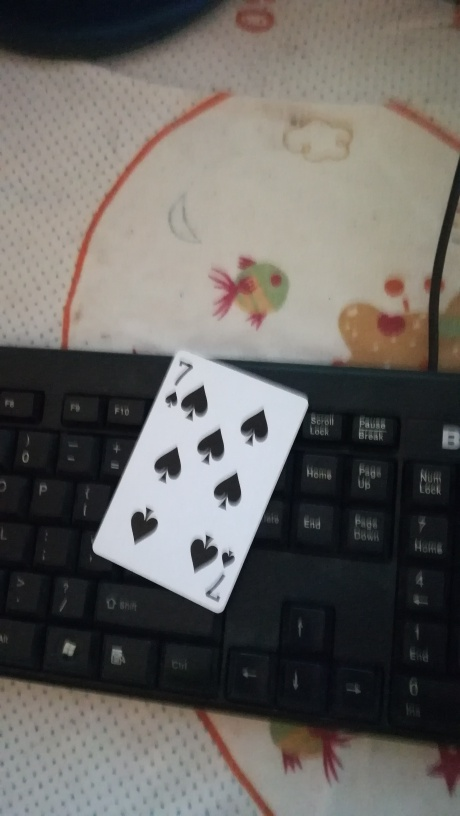ht 7: (89, 346, 310, 615)
